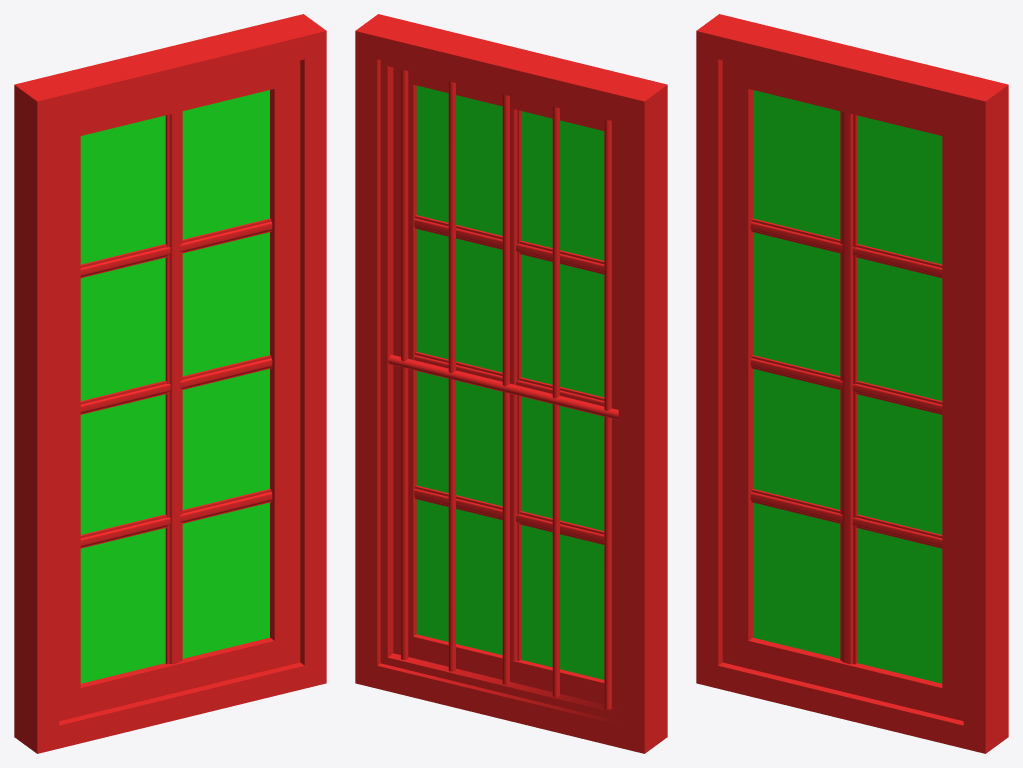
Rendered from door03.fbx.
3 views of the same model, side by side, from view 1: azimuth 30°, elevation 25°; view 2: azimuth 150°, elevation 25°; view 3: azimuth 330°, elevation 25° (orthographic).
Parts seen in each view (by area): view 1: Door03_02, Door03_01; view 2: Door03_02, Door03_01; view 3: Door03_02, Door03_01.
Part boxes in pixels (bbox=[...]): Door03_02: bbox=[59, 60, 300, 720]; Door03_01: bbox=[14, 14, 326, 753]; Door03_02: bbox=[393, 67, 618, 708]; Door03_01: bbox=[355, 14, 667, 753]; Door03_02: bbox=[722, 60, 963, 720]; Door03_01: bbox=[696, 14, 1008, 753].
Size of the model in its own units: 0.65 by 1.4 by 0.09.
